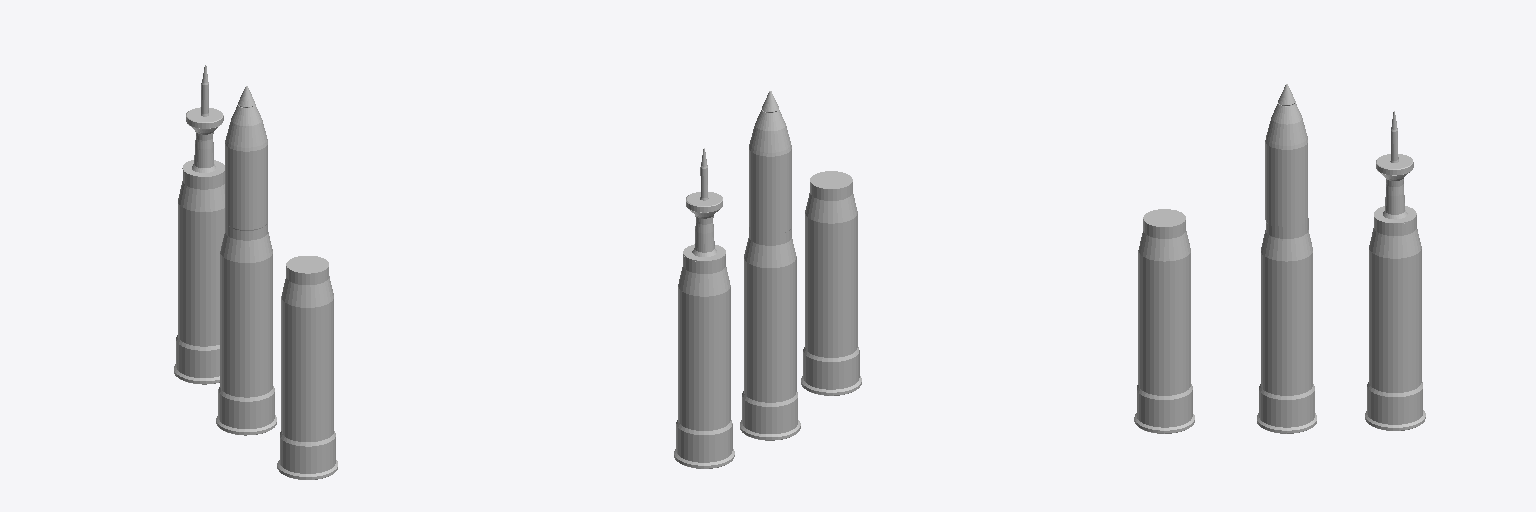
The model's file is Ammo120mm Rheinmetall.obj.
The picture shows the model from 3 angles: view 1: azimuth 30°, elevation 25°; view 2: azimuth 150°, elevation 25°; view 3: azimuth 270°, elevation 25°; orthographic projection.
Visible parts, largest first — view 1: Cylinder.002_Cylinder.017, Cylinder.003_Cylinder.004, Cylinder.000_Cylinder.016, Cylinder.006_Cylinder.012, Cylinder.001_Cylinder.010; view 2: Cylinder.002_Cylinder.017, Cylinder.000_Cylinder.016, Cylinder.003_Cylinder.004, Cylinder.006_Cylinder.012, Cylinder.001_Cylinder.010; view 3: Cylinder.002_Cylinder.017, Cylinder.000_Cylinder.016, Cylinder.003_Cylinder.004, Cylinder.006_Cylinder.012, Cylinder.001_Cylinder.010.
Part boxes in pixels (left/top/right/bottom): Cylinder.002_Cylinder.017: left=277, top=256, right=337, bottom=479; Cylinder.003_Cylinder.004: left=216, top=223, right=276, bottom=435; Cylinder.000_Cylinder.016: left=174, top=172, right=224, bottom=384; Cylinder.006_Cylinder.012: left=225, top=86, right=267, bottom=230; Cylinder.001_Cylinder.010: left=182, top=65, right=224, bottom=177; Cylinder.002_Cylinder.017: left=801, top=171, right=861, bottom=395; Cylinder.000_Cylinder.016: left=674, top=255, right=734, bottom=468; Cylinder.003_Cylinder.004: left=740, top=227, right=800, bottom=440; Cylinder.006_Cylinder.012: left=749, top=91, right=791, bottom=233; Cylinder.001_Cylinder.010: left=683, top=148, right=725, bottom=261; Cylinder.002_Cylinder.017: left=1134, top=209, right=1194, bottom=433; Cylinder.000_Cylinder.016: left=1365, top=217, right=1425, bottom=430; Cylinder.003_Cylinder.004: left=1257, top=218, right=1316, bottom=433; Cylinder.006_Cylinder.012: left=1265, top=84, right=1307, bottom=226; Cylinder.001_Cylinder.010: left=1374, top=111, right=1416, bottom=223.
Size of the model in its own units: 1.91 by 9.53 by 7.48.